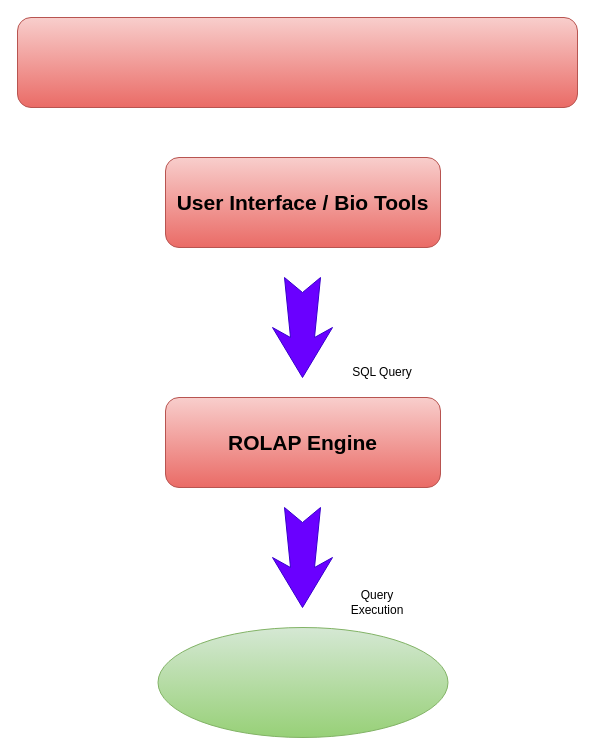
This 595x755 diagram has some shape labels left out. Here are the shapes that lost their labels. From the top down, the box of each, then its label:
(16, 16, 578, 108): ROLAP (Relational OLAP) Architecture
(157, 626, 448, 738): Relational Database (Tables )
